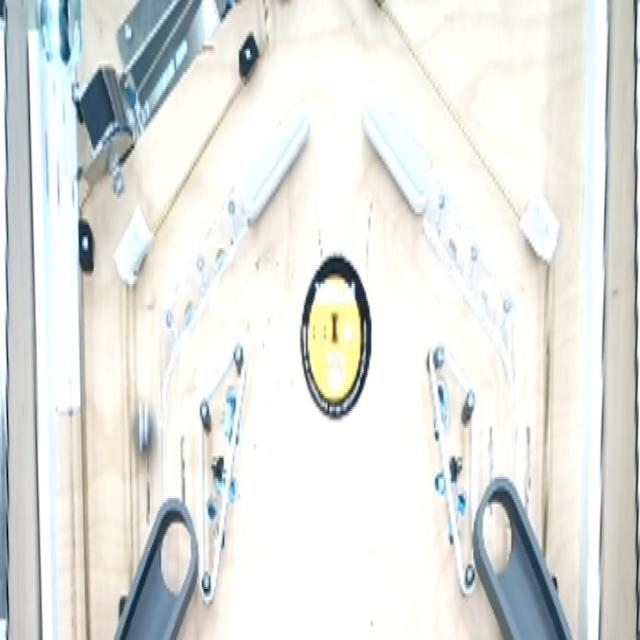ball: (132, 402, 159, 468)
flipper-left: (361, 102, 435, 233)
flipper-right: (239, 110, 313, 232)
